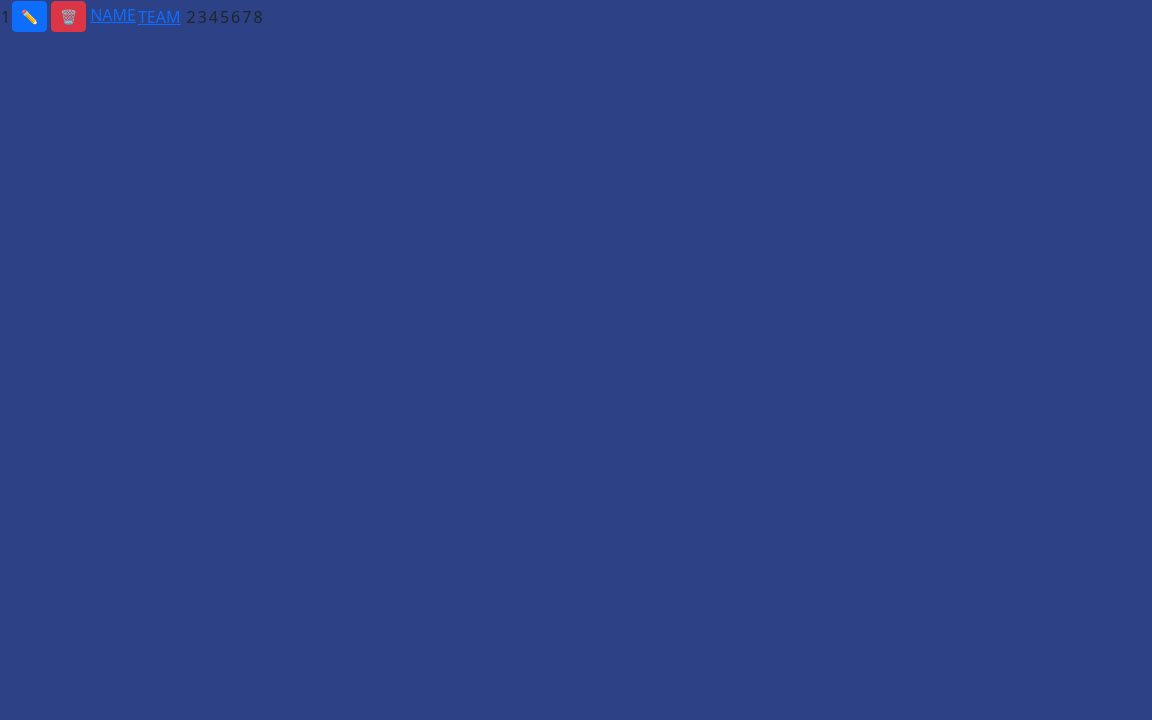
Test: DivisionPlayer › when logged in › interactivity › can show edit player dialog
Expected: the cell "✏️ 🗑️ NAME" is shown, [11, 0, 137, 33]
Click the button "✏️".
click(30, 16)  # box [12, 1, 47, 32]
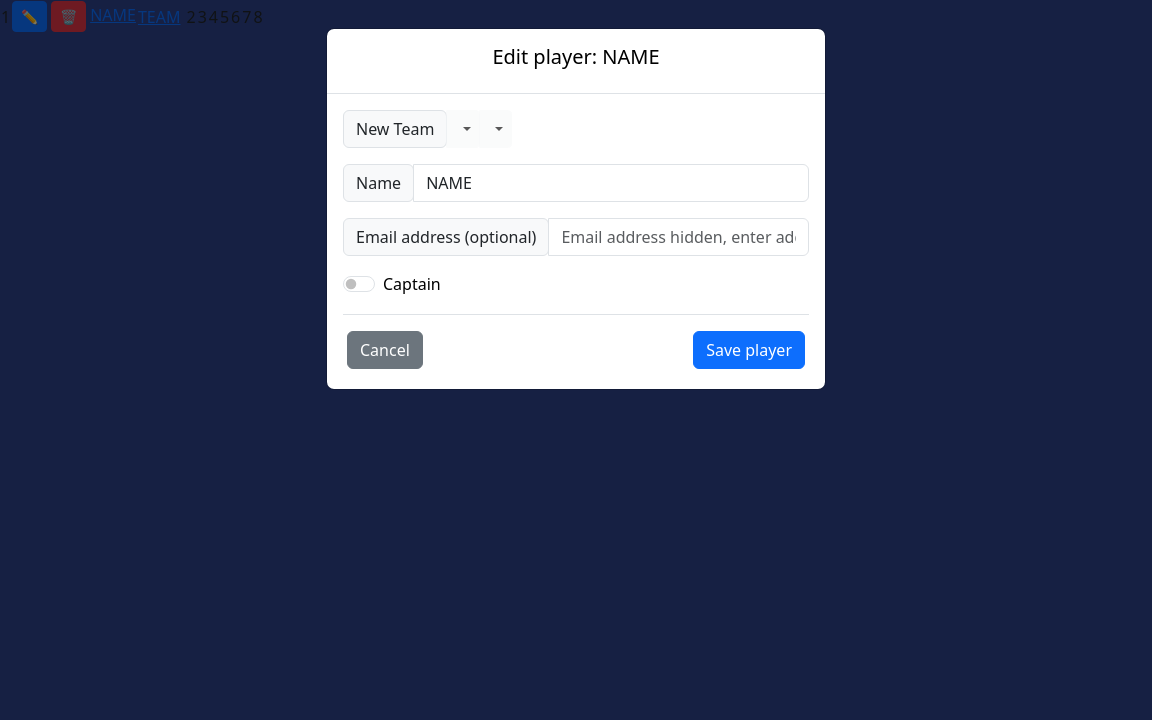
Expected: the element with class "modal-dialog" is shown, [326, 28, 826, 390]
Expected: the element with class "modal-dialog" shows "Edit player: NAME", [492, 43, 660, 70]
